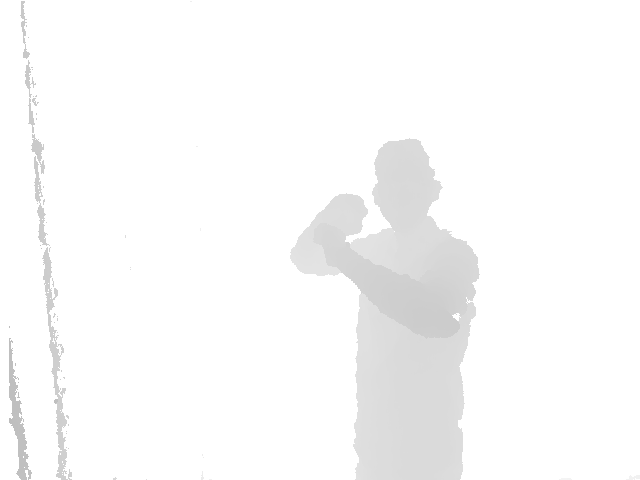head: (371, 138, 442, 226)
person: (288, 138, 482, 480)
